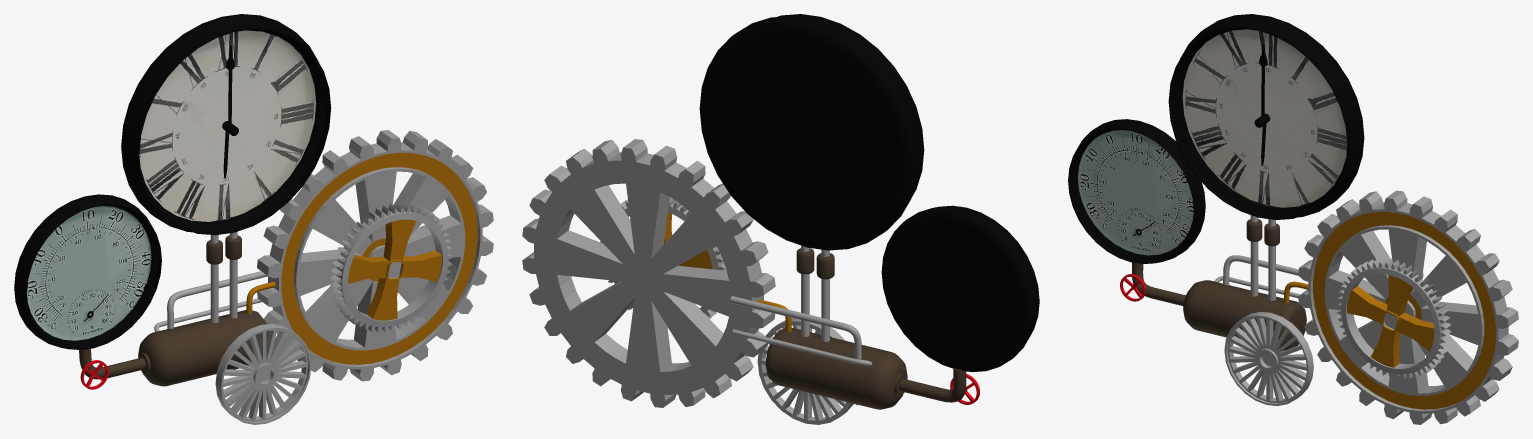
File: Clock.fbx
3 views of the same model, side by side, from view 1: azimuth 30°, elevation 25°; view 2: azimuth 150°, elevation 25°; view 3: azimuth 330°, elevation 25° (orthographic). The views are drawn at different scales.
Visible parts, largest first — view 1: BigClock, BigGear, MediunClock, BackgroundAssetA, MediumGearB, MediumGear, ValveA; view 2: BigGear, BigClock, MediunClock, BackgroundAssetA, MediumGear, MediumGearB; view 3: BigClock, BigGear, MediunClock, MediumGearB, BackgroundAssetA, MediumGear.
Part boxes in pixels (box(x1,y1,x2,y2)): BigClock: box(121, 14, 331, 235); BigGear: box(257, 130, 493, 381); MediunClock: box(14, 194, 161, 349); BackgroundAssetA: box(79, 231, 275, 386); MediumGearB: box(330, 202, 452, 332); MediumGear: box(215, 323, 311, 424); ValveA: box(80, 360, 108, 389); BigGear: box(522, 139, 775, 407); BigClock: box(699, 14, 924, 250); MediunClock: box(881, 205, 1039, 372); BackgroundAssetA: box(730, 245, 966, 409); MediumGear: box(757, 318, 853, 424); MediumGearB: box(600, 197, 726, 318); BigClock: box(1168, 14, 1364, 219); BigGear: box(1298, 190, 1518, 424); MediunClock: box(1068, 119, 1205, 263); MediumGearB: box(1336, 258, 1451, 379); BackgroundAssetA: box(1132, 215, 1308, 351); MediumGear: box(1224, 311, 1313, 405).
Bounding box in the file's own units: 252 × 200 × 30.59.
